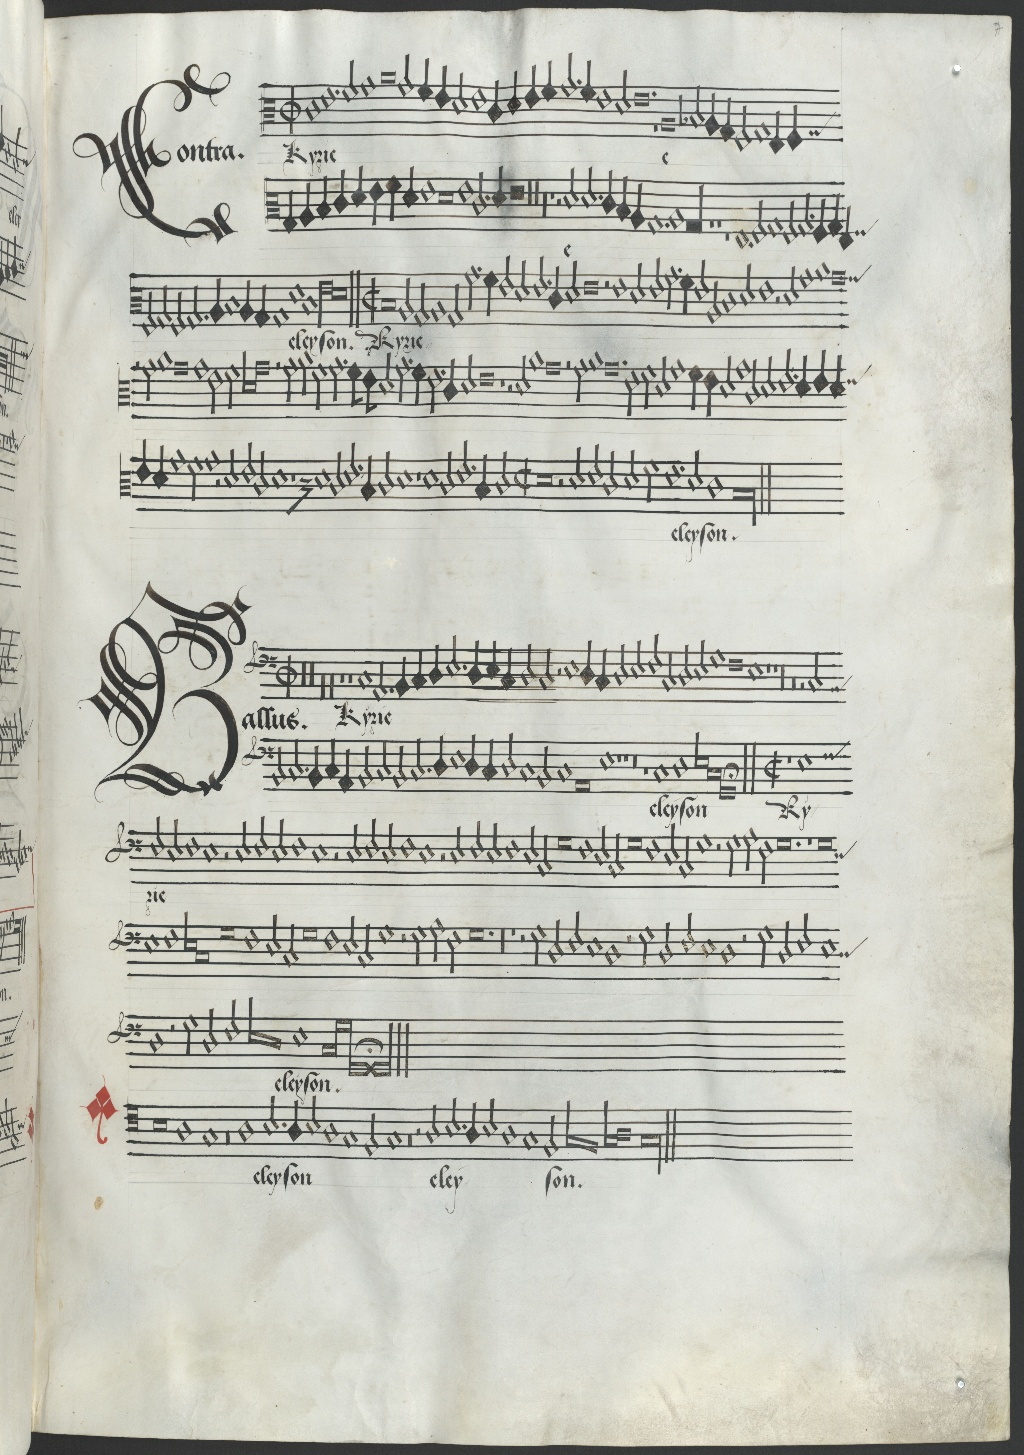Imincut: (360, 269, 383, 329)
barline: (344, 262, 363, 335)
breve_3: (827, 262, 849, 293)
breve_5: (578, 271, 602, 303)
breve_8: (379, 290, 399, 317)
c clef_7: (124, 270, 146, 330)
custos_3: (846, 262, 871, 294)
l1breve_3: (315, 274, 332, 331)
l2longa_4: (330, 280, 348, 305)
minim rest: (600, 263, 612, 334), (771, 265, 784, 336)
minim_10: (446, 274, 465, 335), (185, 278, 203, 339), (413, 274, 431, 334), (155, 277, 172, 336)
minim_11: (140, 285, 158, 344), (168, 281, 186, 342)
minim_3: (462, 259, 480, 317), (662, 260, 679, 316)
minim_5: (692, 252, 710, 307), (496, 248, 514, 304), (648, 252, 665, 305), (531, 250, 547, 303)
minim_6: (512, 253, 531, 311), (628, 254, 647, 311), (737, 255, 756, 312), (781, 258, 800, 312), (564, 254, 582, 311)
minim_9: (397, 270, 416, 328), (705, 273, 721, 332)
point: (197, 307, 212, 328), (541, 271, 555, 290), (670, 260, 684, 279), (472, 260, 485, 277)
semibreve_10: (270, 300, 290, 334)
semibreve_2: (813, 255, 831, 288)
semibreve_3: (797, 262, 815, 295)
semibreve_5: (756, 270, 776, 308), (610, 269, 628, 306)
semibreve_6: (285, 275, 305, 310)
semibreve_7: (719, 284, 738, 319)
semibreve_8: (222, 286, 240, 321), (299, 288, 317, 322)
semibreve_9: (429, 291, 448, 328)
semiminim_10: (254, 276, 272, 334)
semiminim_4: (481, 263, 496, 322), (677, 267, 693, 320)
semiminim_7: (549, 258, 564, 318)
semiminim_9: (207, 271, 225, 332), (238, 270, 255, 329)
